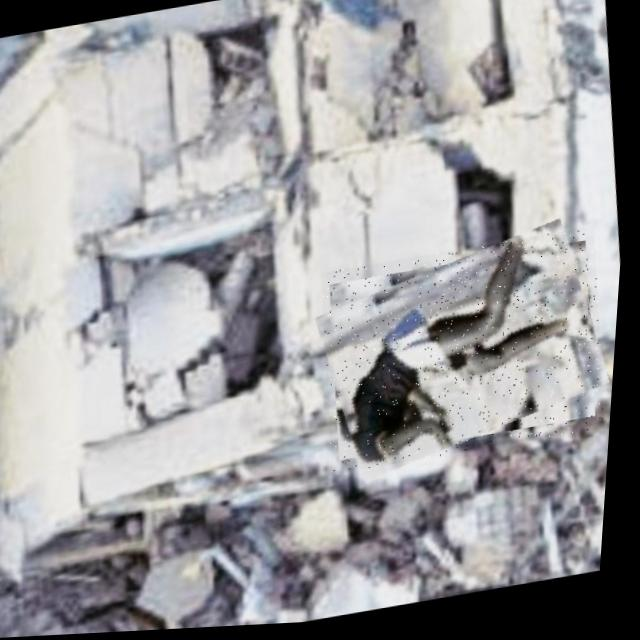Person in Rubble: (314, 230, 622, 478)
